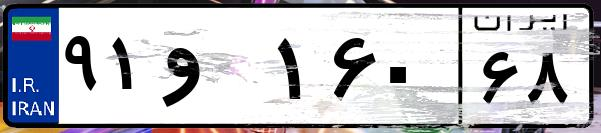0: (385, 28, 445, 110)
1: (270, 28, 330, 110), (110, 28, 158, 98)
6: (330, 28, 385, 110), (475, 38, 525, 113)
8: (525, 38, 570, 115)
9: (57, 26, 110, 100)
و: (158, 20, 270, 120)
